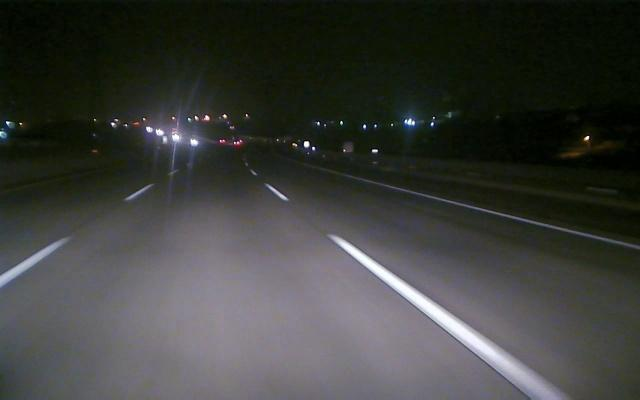lane: (261, 181, 575, 399), (359, 178, 640, 251), (1, 189, 145, 286)
